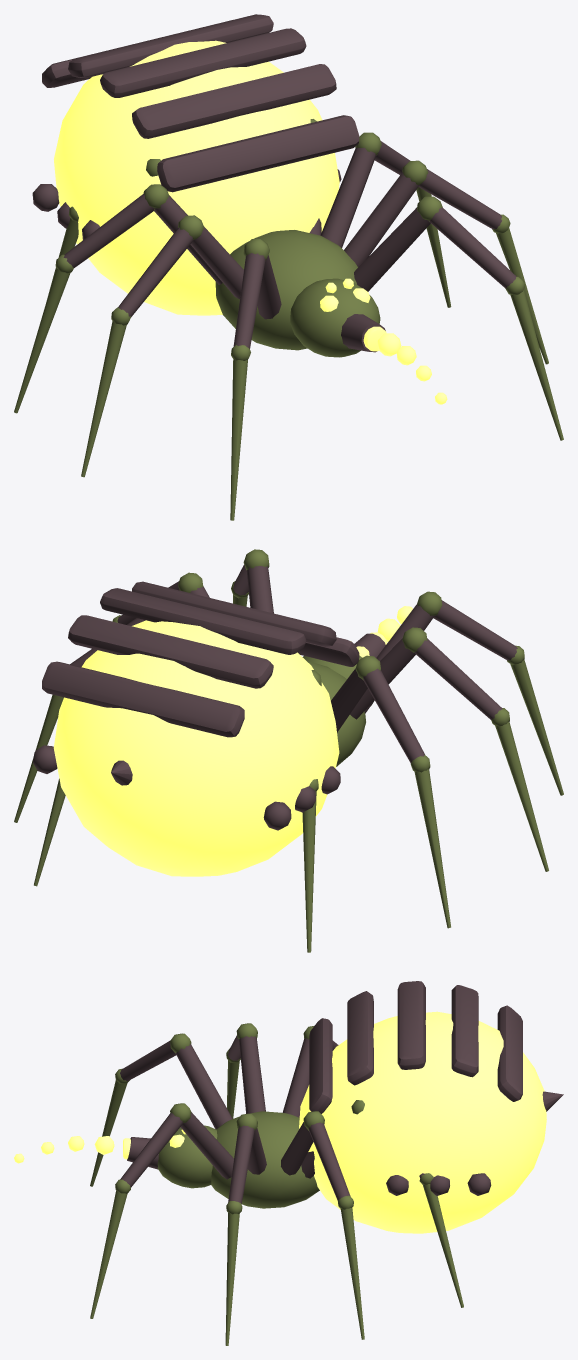
Rendered from AcidSpitter.glb.
3 renders of one model, top to bottom at view 1: azimuth 30°, elevation 25°; view 2: azimuth 150°, elevation 25°; view 3: azimuth 270°, elevation 25°, orthographic. The views are drawn at different scales.
Visible parts, largest first — view 1: AcidSpitter; view 2: AcidSpitter; view 3: AcidSpitter.
Boxes of the visible parts, box(x1,y1,x2,y2) form: AcidSpitter: box(14, 14, 563, 520); AcidSpitter: box(14, 549, 563, 952); AcidSpitter: box(14, 981, 563, 1345).
Size of the model in its own units: 1.09 by 0.6364 by 1.35.
